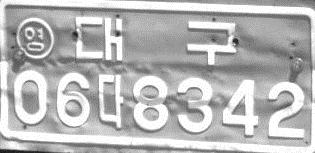0: (12, 69, 48, 125)
2: (267, 80, 306, 138)
3: (175, 75, 213, 134)
4: (222, 79, 259, 135)
6: (55, 71, 92, 126)
8: (131, 74, 169, 132)
다: (97, 72, 124, 128)
대구_D: (73, 13, 239, 67)
영: (15, 15, 55, 59)
